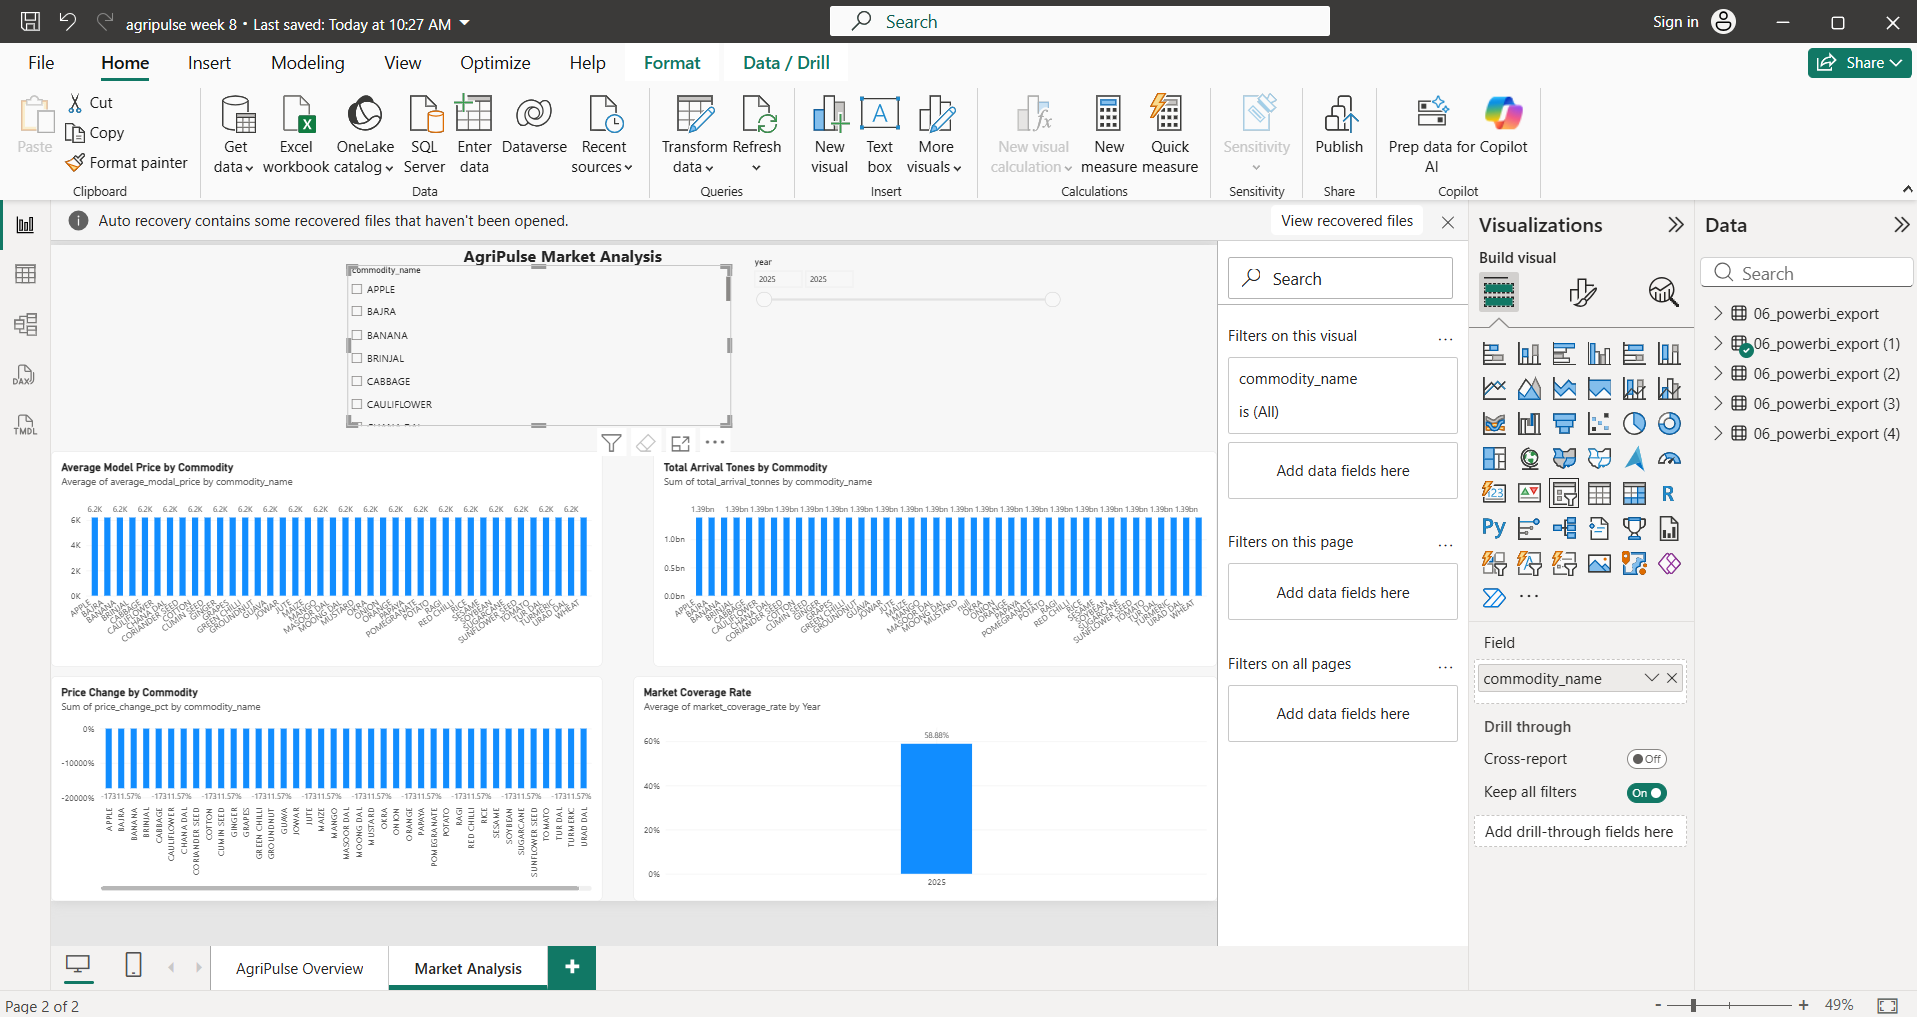

Layout of this report page (visuals, bound fields, positions):
{"tool":"powerbi","page":{"name":"Market Analysis","canvas":[1920,1080],"ordinal":1},"visuals":[{"type":"textbox","box":[679.2,0,566,90.6],"z":1000},{"type":"slicer","fields":{"Values":["06_powerbi_export (1).commodity_name"]},"box":[487.8,32.9,631.9,265.5],"z":2000},{"type":"slicer","fields":{"Values":["06_powerbi_export (1).year"]},"box":[1150.6,18.5,514.6,298.5],"z":3000},{"type":"clusteredColumnChart","title":"Average Model Price by Commodity","fields":{"Category":["06_powerbi_export (1).commodity_name"],"Y":["Avg(06_powerbi_export (4).average_modal_price)"]},"box":[0,339.6,907.7,354],"z":4000},{"type":"clusteredColumnChart","title":"Total Arrival Tones by Commodity","fields":{"Category":["06_powerbi_export (4).commodity_name"],"Y":["Sum(06_powerbi_export (1).total_arrival_tonnes)"]},"box":[992.1,339.6,928.3,354],"z":5000},{"type":"clusteredColumnChart","title":"Price Change by Commodity","fields":{"Category":["06_powerbi_export (1).commodity_name"],"Y":["Sum(06_powerbi_export (3).price_change_pct)"]},"box":[0,710.1,907.7,370.5],"z":6000},{"type":"clusteredColumnChart","title":"Market Coverage Rate","fields":{"Category":["06_powerbi_export (3).report_date.Variation.Date Hierarchy.Year"],"Y":["Avg(06_powerbi_export (2).market_coverage_rate)"]},"box":[959.2,710.1,961.2,370.5],"z":7000}]}

Visuals, with their boxes on the page's 1920x1080 design canvas (x1, y1, x2, y2). These are canvas units, not pixel positions in the 1917x1017 screenshot, which may show the page scaled, cropped or inside an application window:
textbox: pyautogui.locateOnScreen(679, 0, 1245, 91)
slicer - 06_powerbi_export (1).commodity_name: pyautogui.locateOnScreen(488, 33, 1120, 298)
slicer - 06_powerbi_export (1).year: pyautogui.locateOnScreen(1151, 18, 1665, 317)
"Average Model Price by Commodity" clusteredColumnChart: pyautogui.locateOnScreen(0, 340, 908, 694)
"Total Arrival Tones by Commodity" clusteredColumnChart: pyautogui.locateOnScreen(992, 340, 1920, 694)
"Price Change by Commodity" clusteredColumnChart: pyautogui.locateOnScreen(0, 710, 908, 1081)
"Market Coverage Rate" clusteredColumnChart: pyautogui.locateOnScreen(959, 710, 1920, 1081)
